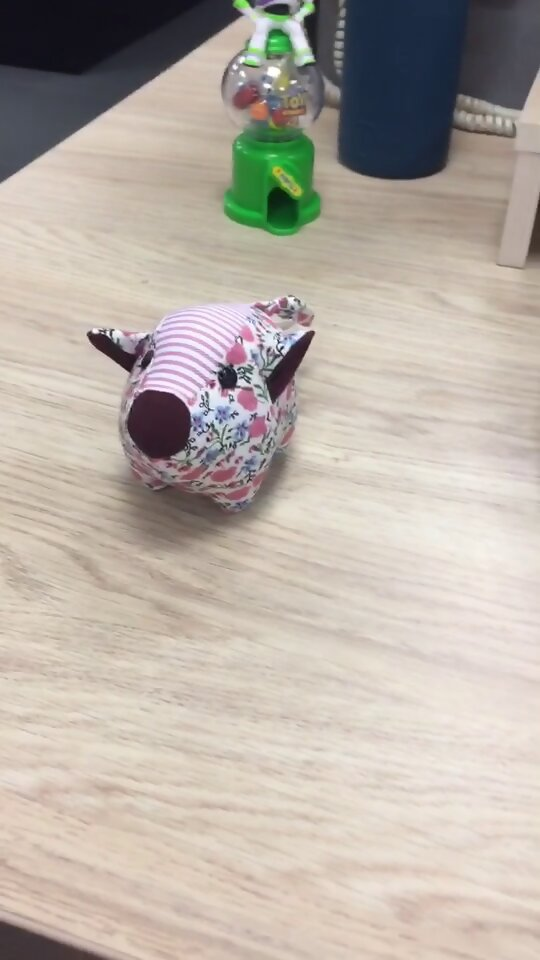pig: (85, 291, 323, 518)
